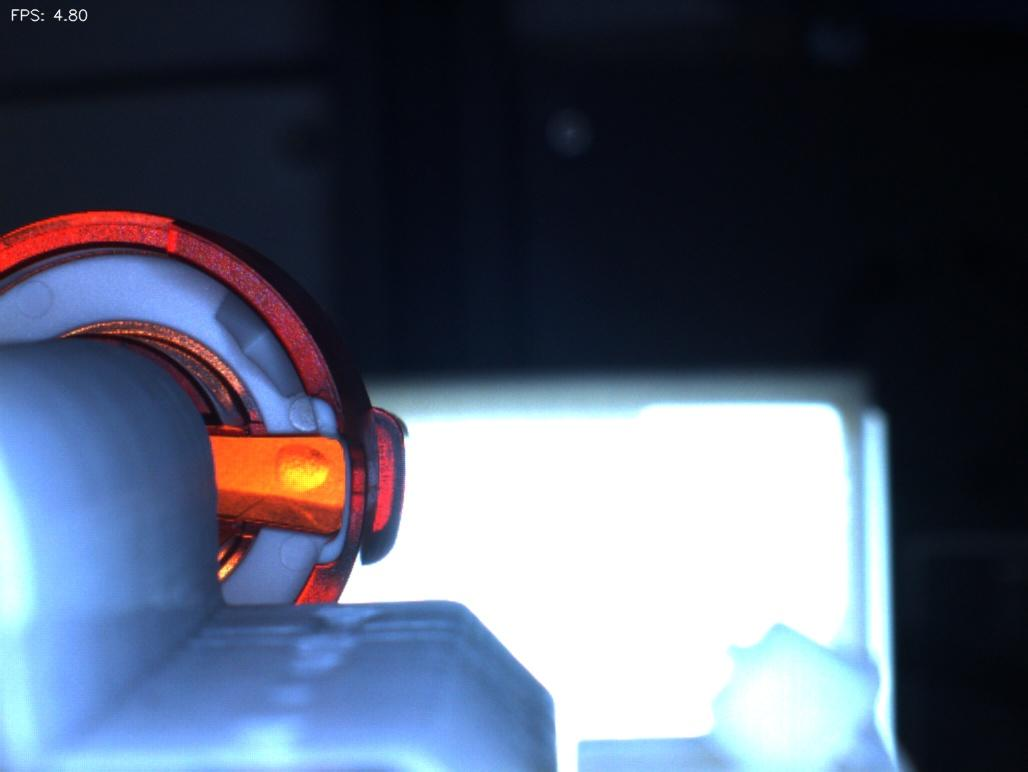Retassure: (255, 436, 341, 506)
